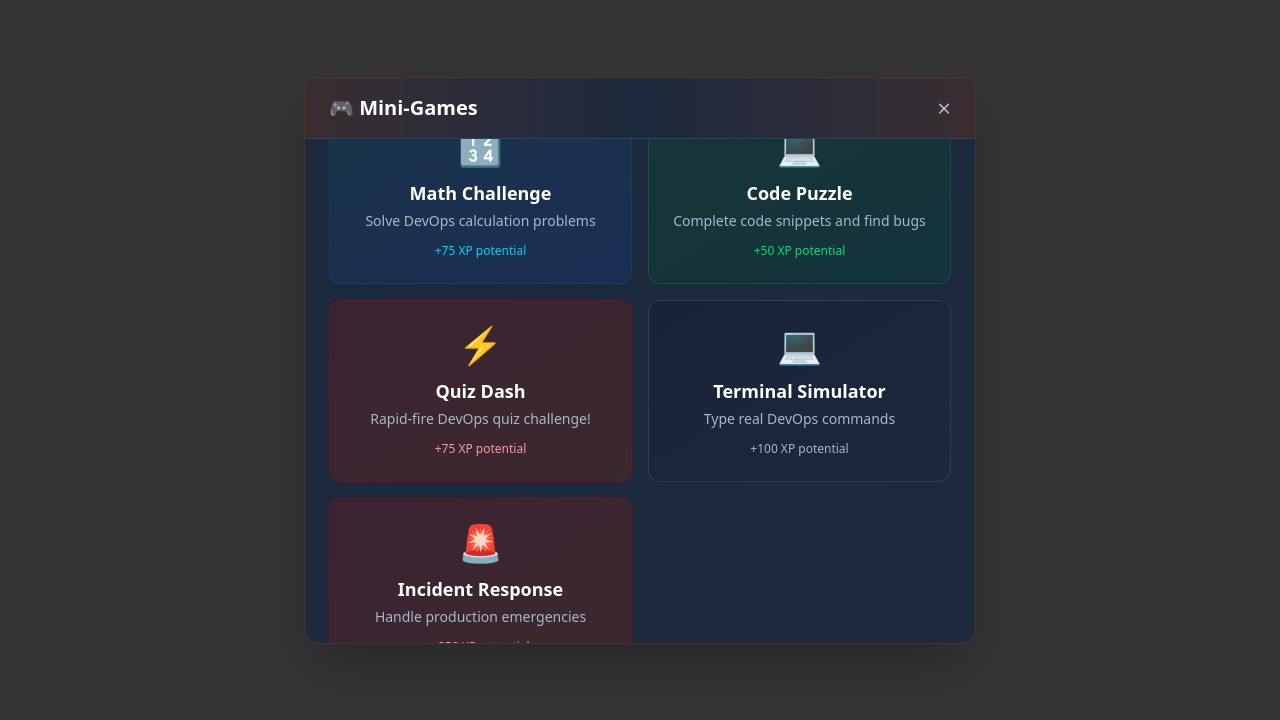
it: MiniGameHub › abandons a Quiz Dash round back to the menu without rewards
(page scrolled)
What coordinates should you click on to do the following:
click the button with aria-label "Play Quiz Dash game"
I would click on:
 (480, 390)
Its box is x1=329 y1=300 x2=632 y2=482.
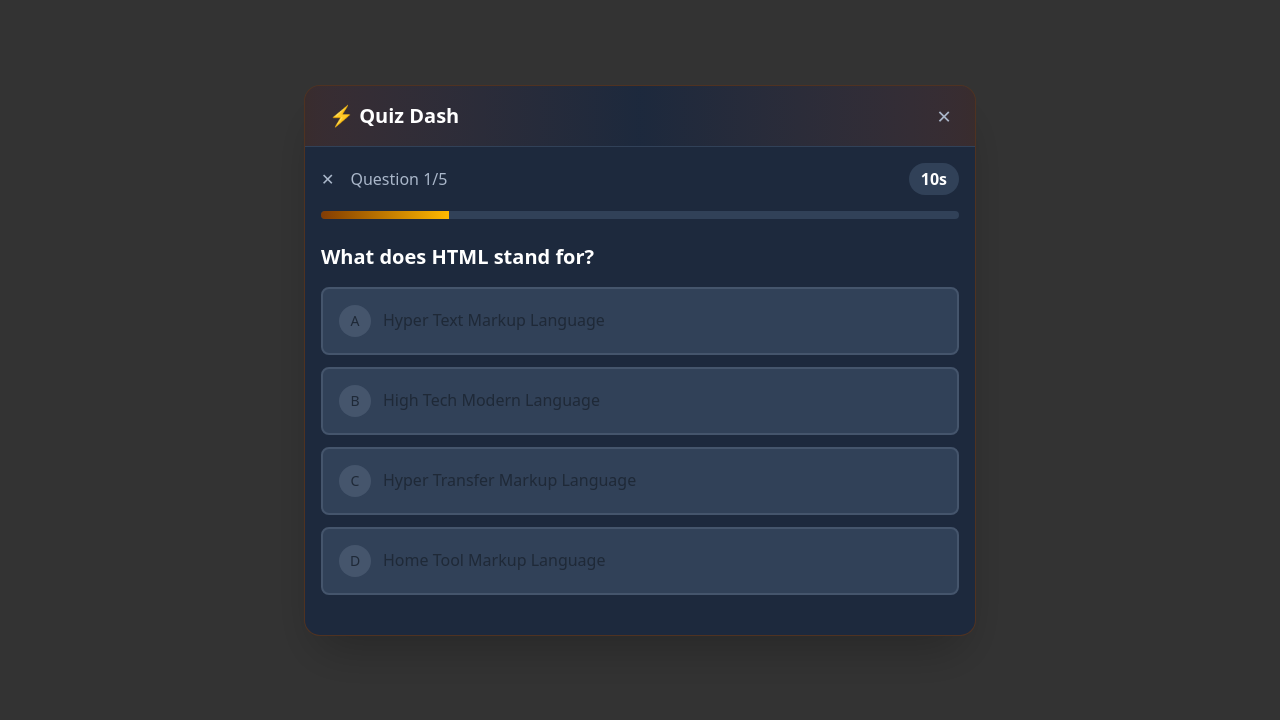
Result: the heading "⚡ Quiz Dash" is shown at x1=329 y1=102 x2=459 y2=130
What coordinates should you click on to do the following:
click the button "✕"
I would click on:
 (328, 178)
Its box is x1=321 y1=166 x2=334 y2=190.
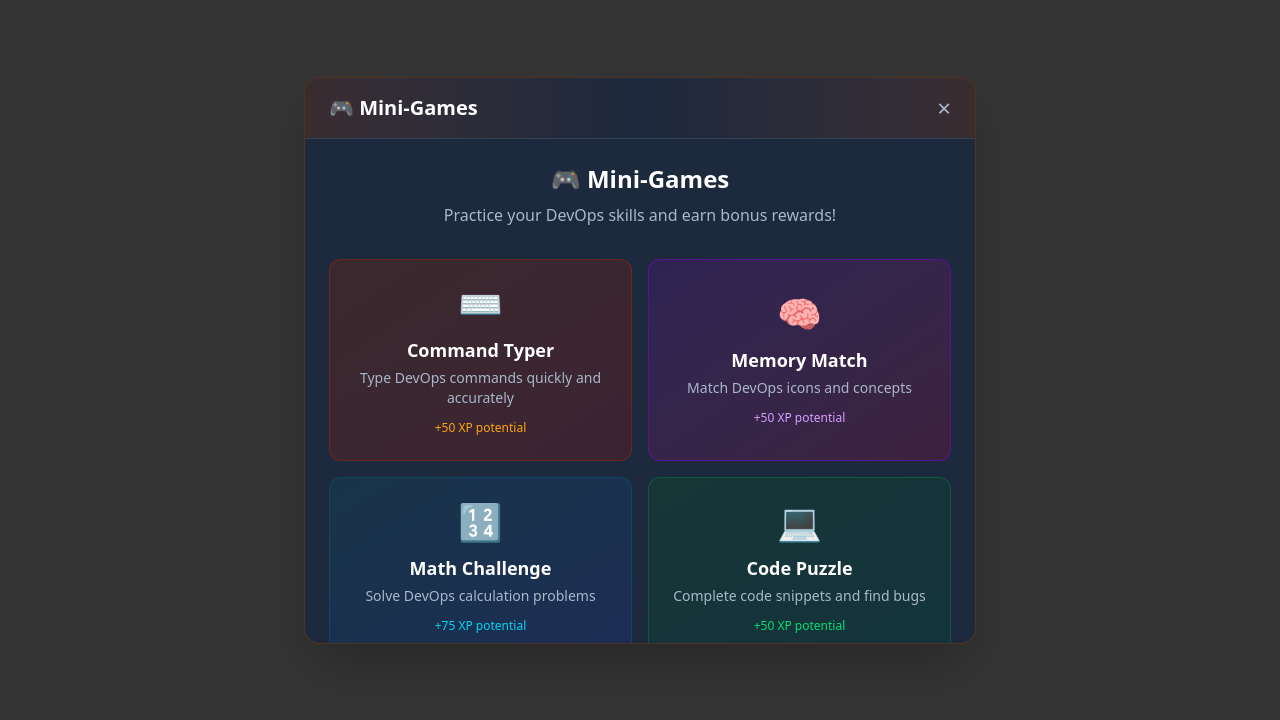
Result: the 1st heading "🎮 Mini-Games" is shown at x1=329 y1=94 x2=478 y2=122
